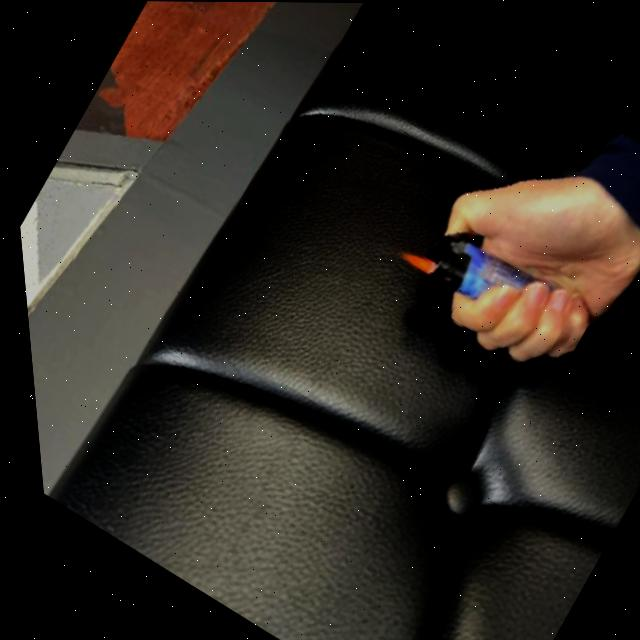Fire: (393, 241, 438, 278)
